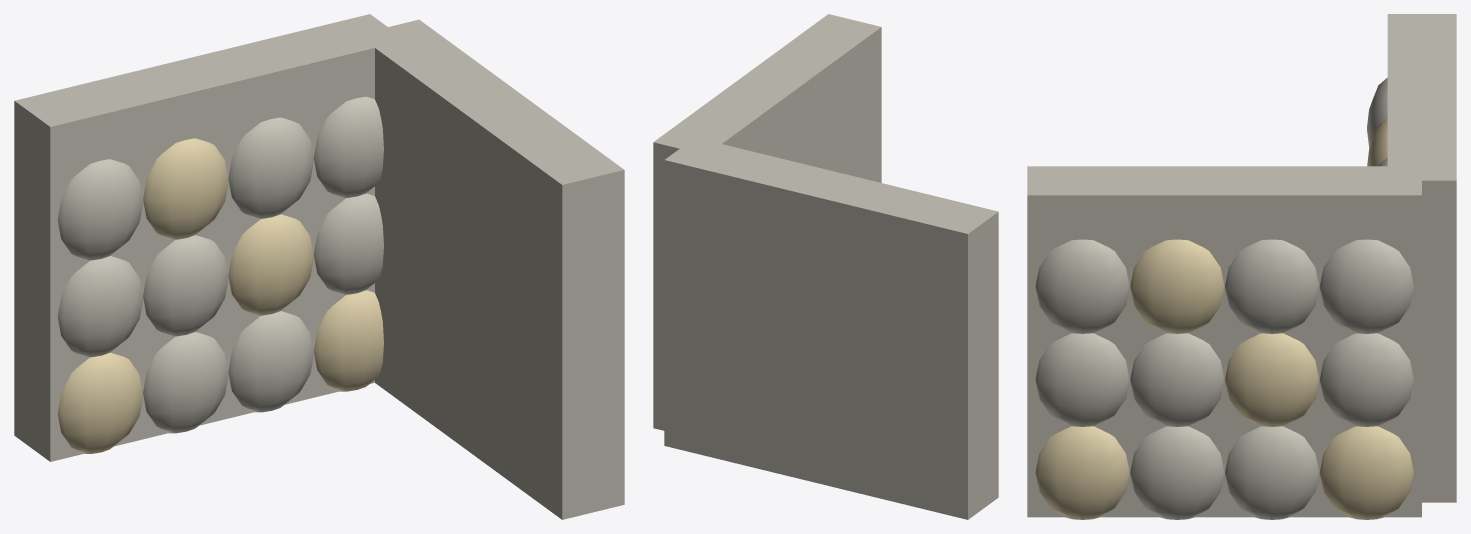
File: zoo-and-safari-park-builder-rock-wall-corner-4a7b4843__21462.glb
The picture shows the model from 3 angles, left to right: view 1: azimuth 30°, elevation 25°; view 2: azimuth 150°, elevation 25°; view 3: azimuth 270°, elevation 25°; orthographic projection. The views are drawn at different scales.
Visible parts, largest first — view 1: rock-wall-corner; view 2: rock-wall-corner; view 3: rock-wall-corner.
Boxes of the visible parts, bbox=[...] form: rock-wall-corner: bbox=[14, 14, 624, 519]; rock-wall-corner: bbox=[653, 14, 998, 519]; rock-wall-corner: bbox=[1027, 14, 1456, 519].
Size of the model in its own units: 2.28 by 1.83 by 2.18.
